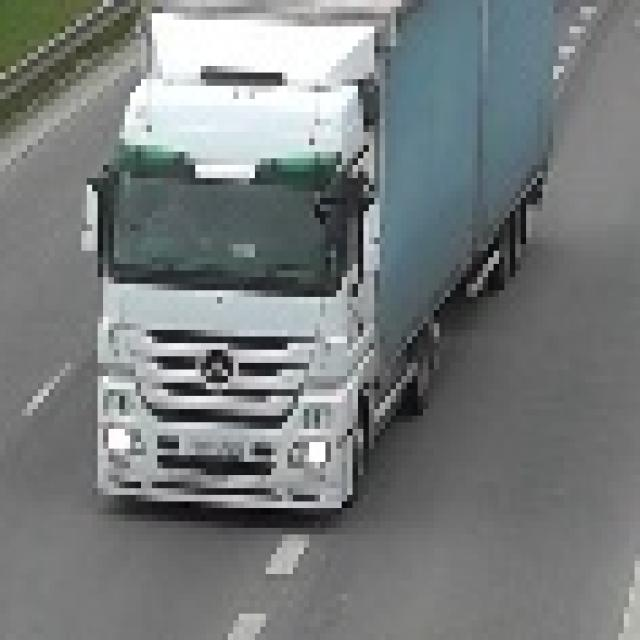TRUCK: (98, 0, 564, 521)
